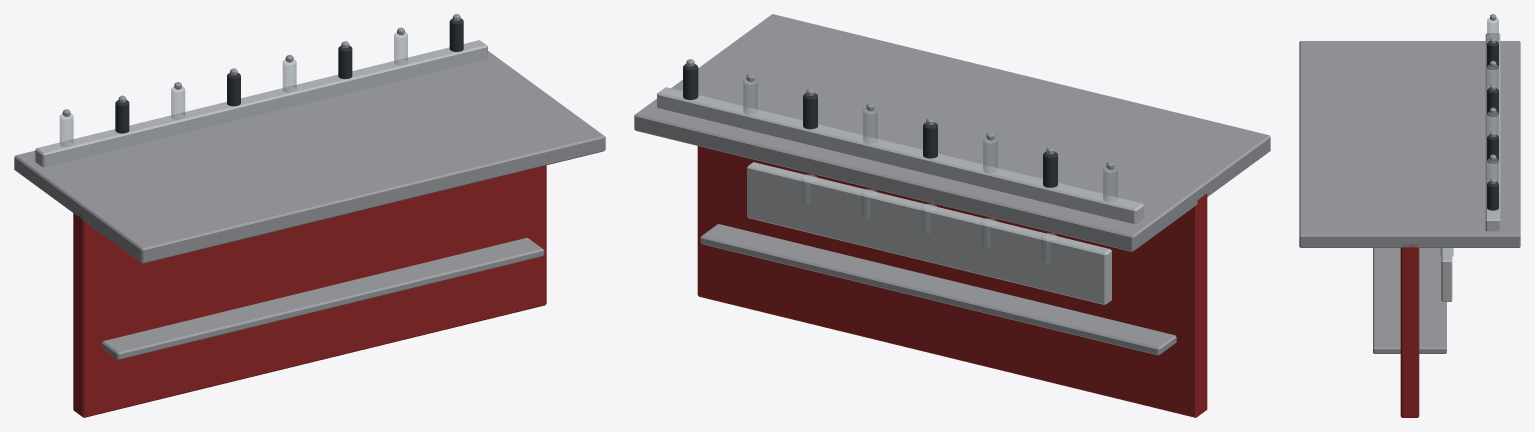
File: PRP_Bar_NCL_v001.glb
3 views of the same model, side by side, from view 1: azimuth 30°, elevation 25°; view 2: azimuth 150°, elevation 25°; view 3: azimuth 270°, elevation 25° (orthographic). The views are drawn at different scales.
Parts seen in each view (by area): view 1: PRP_Bar_NCL_v001; view 2: PRP_Bar_NCL_v001; view 3: PRP_Bar_NCL_v001.
Boxes of the visible parts, x1,y1,x2,y2 form: PRP_Bar_NCL_v001: [14, 14, 605, 417]; PRP_Bar_NCL_v001: [634, 14, 1270, 417]; PRP_Bar_NCL_v001: [1299, 14, 1520, 417].
Bounding box in the file's own units: 2.5 × 1.34 × 1.2.
